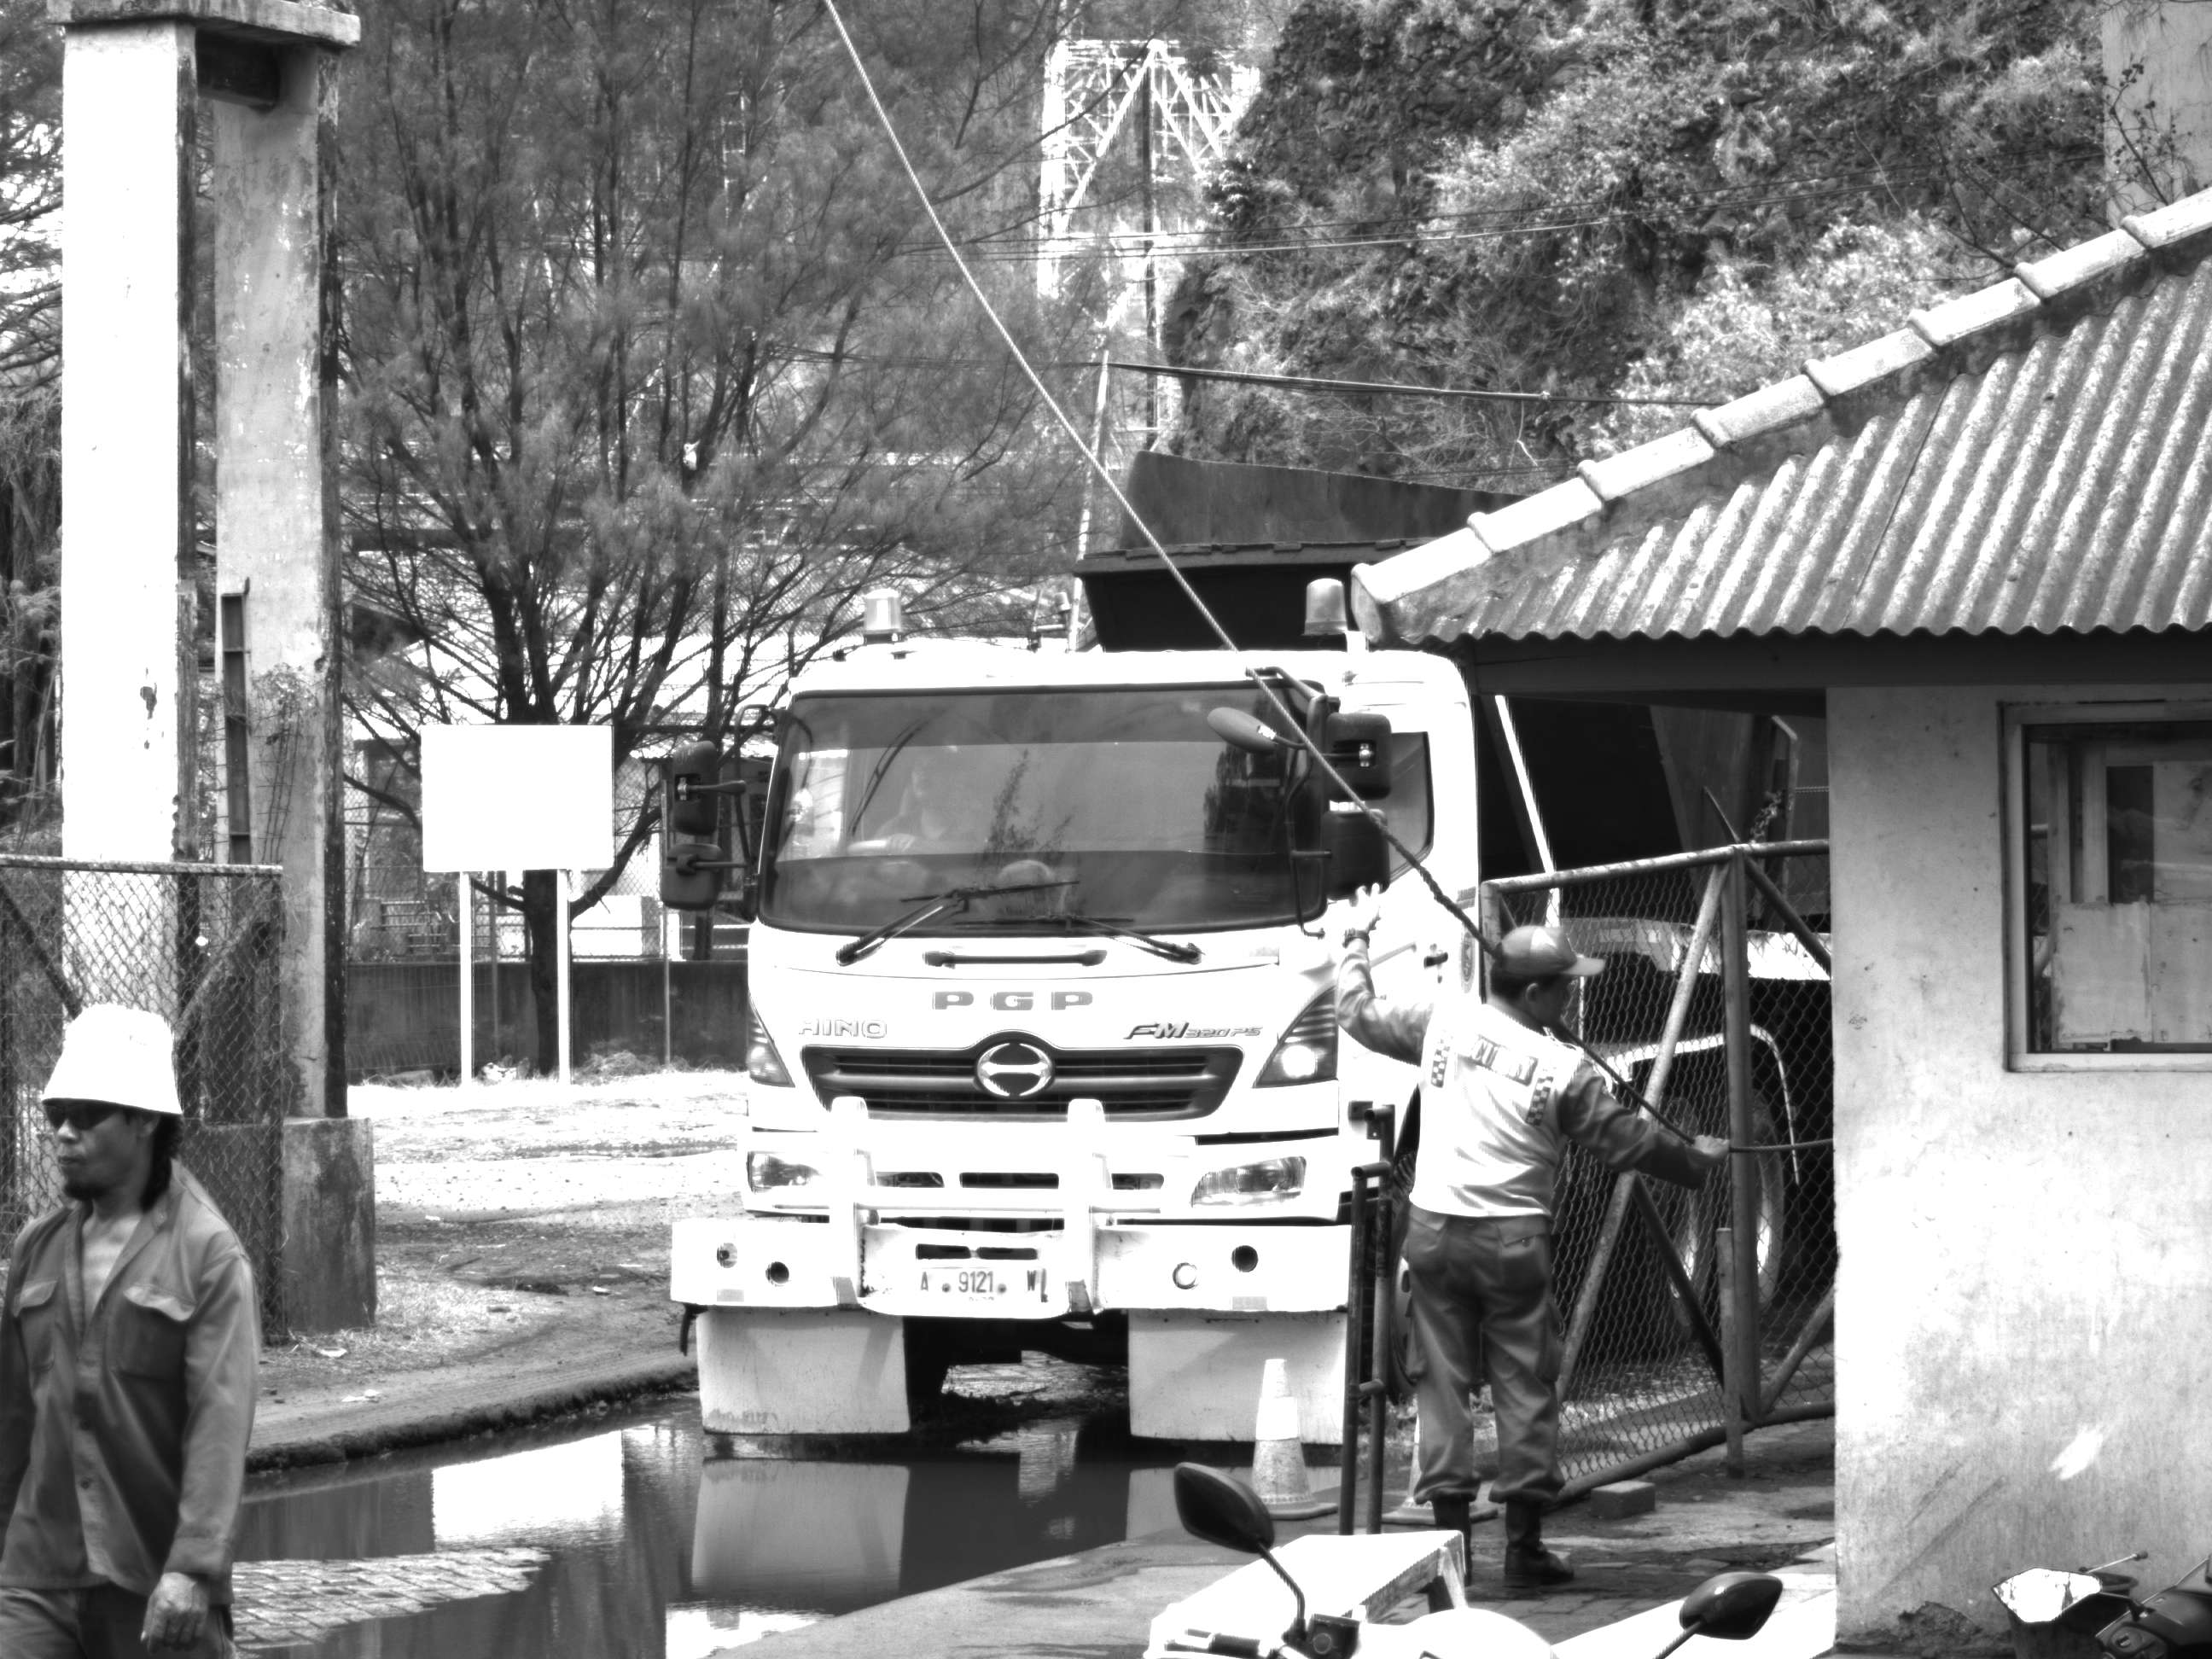day_truck_front: (655, 640, 1473, 1463)
plate: (916, 1270, 1047, 1303)
